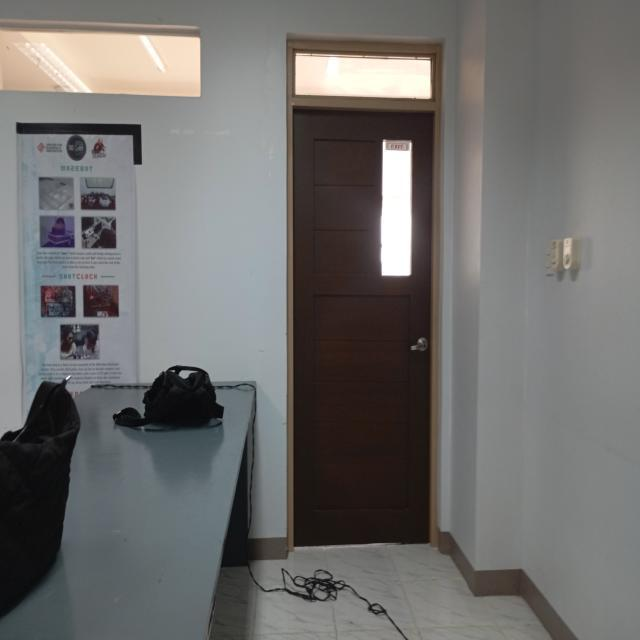door: (280, 21, 445, 560)
